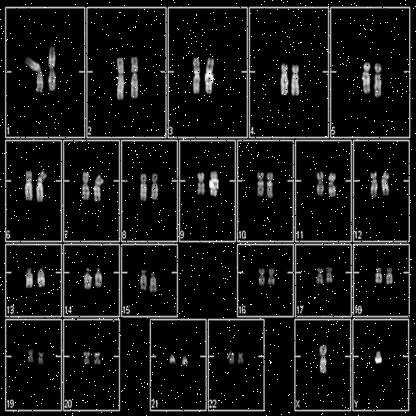1: (20, 54, 45, 96), (44, 42, 60, 96)
10: (264, 164, 276, 202), (256, 166, 266, 202)
11: (314, 168, 326, 198), (325, 168, 337, 198)
12: (368, 168, 380, 205), (380, 168, 392, 204)
13: (24, 262, 36, 291), (36, 263, 48, 292)
14: (82, 263, 94, 290), (93, 263, 105, 290)
15: (136, 266, 148, 295), (148, 266, 160, 295)
16: (256, 264, 268, 288), (268, 264, 280, 288)
17: (313, 262, 325, 287), (325, 262, 337, 287)
18: (374, 262, 383, 290), (384, 262, 392, 290)
19: (23, 344, 36, 368), (36, 344, 49, 368)
2: (112, 51, 127, 103), (126, 50, 141, 102)
20: (80, 346, 92, 370), (92, 346, 104, 370)
21: (166, 347, 178, 369), (178, 346, 190, 368)
22: (236, 348, 247, 372), (226, 348, 236, 372)
3: (202, 49, 215, 98), (191, 49, 202, 98)
4: (278, 56, 290, 100), (289, 56, 301, 100)
5: (360, 57, 372, 98), (373, 57, 384, 98)
6: (23, 165, 35, 203), (34, 165, 46, 203)
7: (80, 168, 92, 202), (92, 169, 104, 203)
8: (148, 170, 160, 204), (138, 169, 148, 203)
9: (194, 167, 206, 200), (206, 166, 218, 198)
X: (318, 338, 329, 378)
Y: (373, 349, 384, 367)
